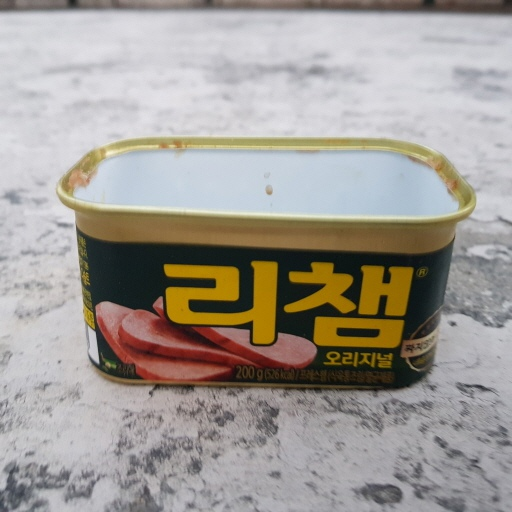Metal_2: (53, 131, 478, 392)
